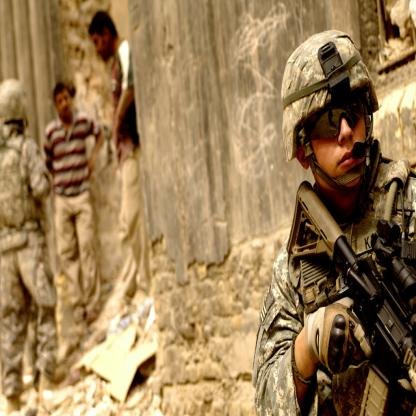Helmet: (279, 27, 380, 217), (0, 78, 30, 131)
